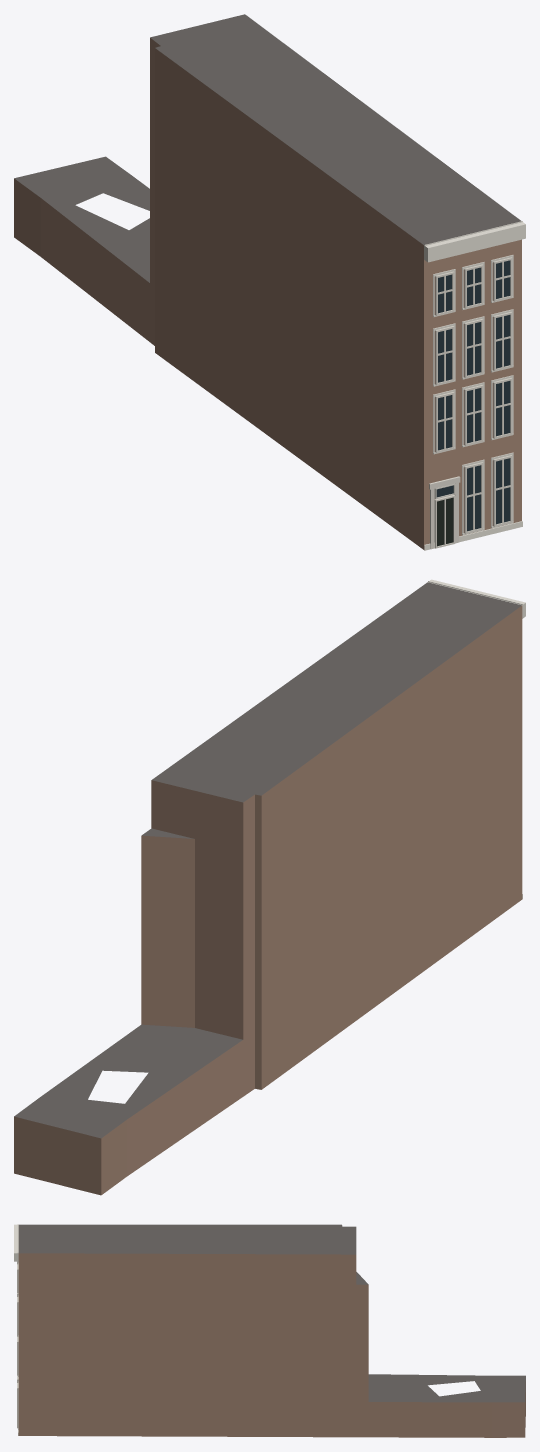
3 views of the same model, one above another, from view 1: azimuth 30°, elevation 25°; view 2: azimuth 150°, elevation 25°; view 3: azimuth 270°, elevation 25° (orthographic). The views are drawn at different scales.
Visible parts, largest first — view 1: spec-0363100012250513; view 2: spec-0363100012250513; view 3: spec-0363100012250513.
Part boxes in pixels (left/top/right/bottom): spec-0363100012250513: left=14, top=14, right=525, bottom=550; spec-0363100012250513: left=14, top=579, right=525, bottom=1195; spec-0363100012250513: left=14, top=1224, right=525, bottom=1437.
Bounding box in the file's own units: 6.11 × 17.11 × 43.33.
